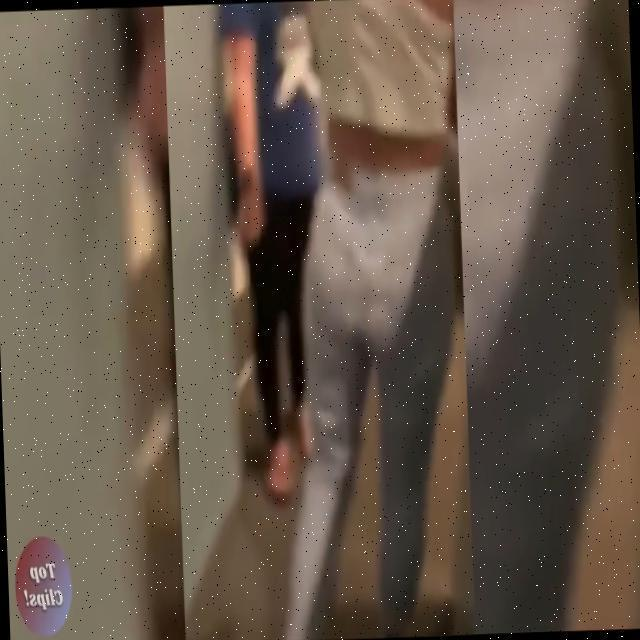person: (264, 0, 474, 640), (220, 0, 338, 495)
